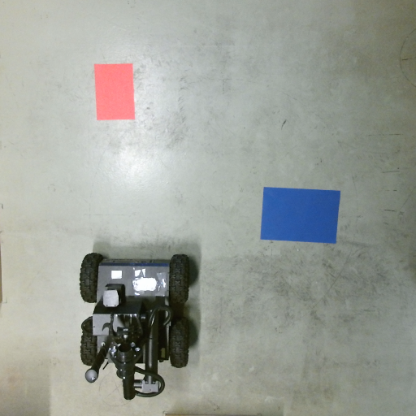Blue: (260, 187, 339, 245)
Jaguar: (76, 252, 194, 403)
Red: (91, 62, 137, 122)
